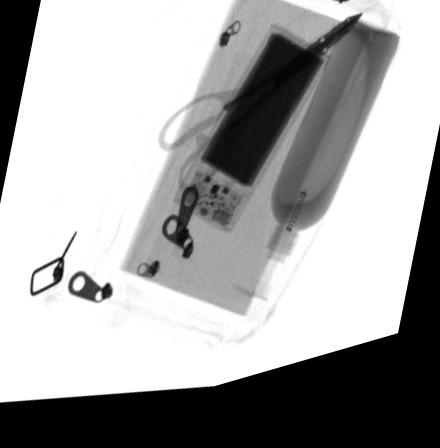Powerbank: (169, 36, 333, 249)
Scissors: (154, 33, 362, 211)
